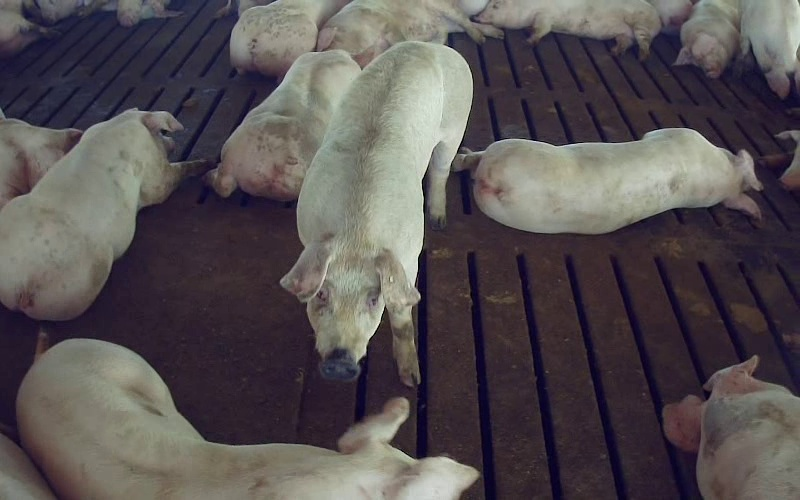pig: (17, 329, 478, 499), (281, 42, 472, 385), (0, 109, 206, 320), (453, 128, 761, 233), (207, 46, 374, 200), (663, 356, 799, 499), (475, 0, 660, 59), (316, 0, 502, 53), (735, 0, 799, 98)
